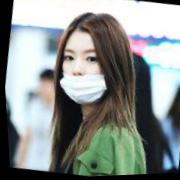WRONG: (54, 35, 116, 106)
